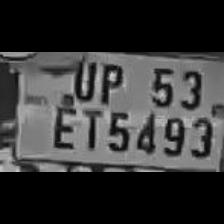3: (187, 111, 214, 158), (176, 64, 204, 108)
4: (130, 105, 156, 155)
5: (145, 63, 177, 107), (103, 104, 131, 152)
9: (159, 111, 186, 156)
E: (47, 96, 77, 152)
P: (94, 56, 126, 104)
T: (76, 103, 102, 151)
U: (68, 54, 96, 102)
